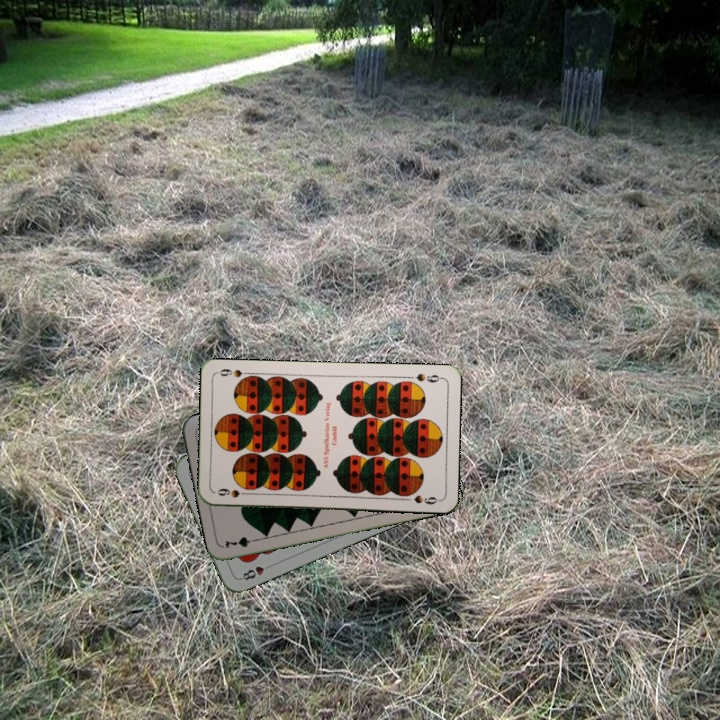G7: (221, 533, 262, 551)
H8: (236, 560, 275, 583)
S9: (213, 484, 253, 500), (412, 369, 445, 385)
